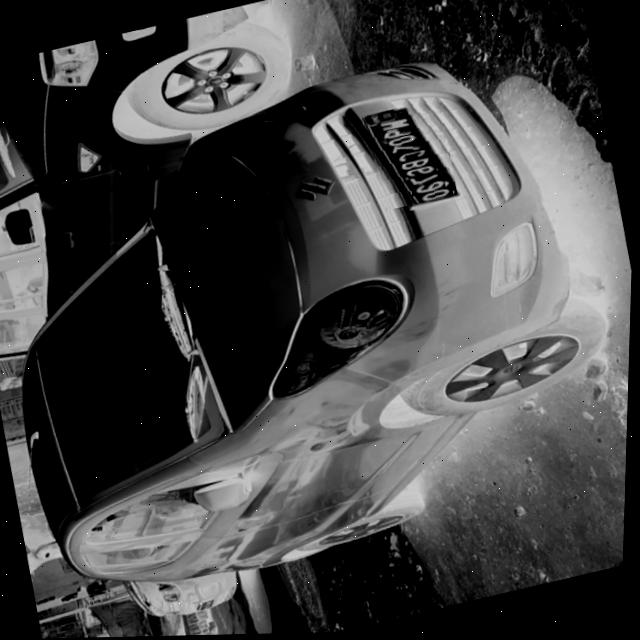0: (418, 188, 454, 205), (384, 134, 418, 150)
6: (411, 180, 447, 197), (405, 166, 438, 180)
7: (390, 141, 426, 156), (407, 173, 443, 188)
B: (399, 158, 433, 172)
C: (395, 149, 430, 165)
IND: (368, 110, 396, 127)
Indian_registered: (365, 109, 458, 204)
M: (377, 117, 412, 134)
P: (380, 126, 413, 141)
